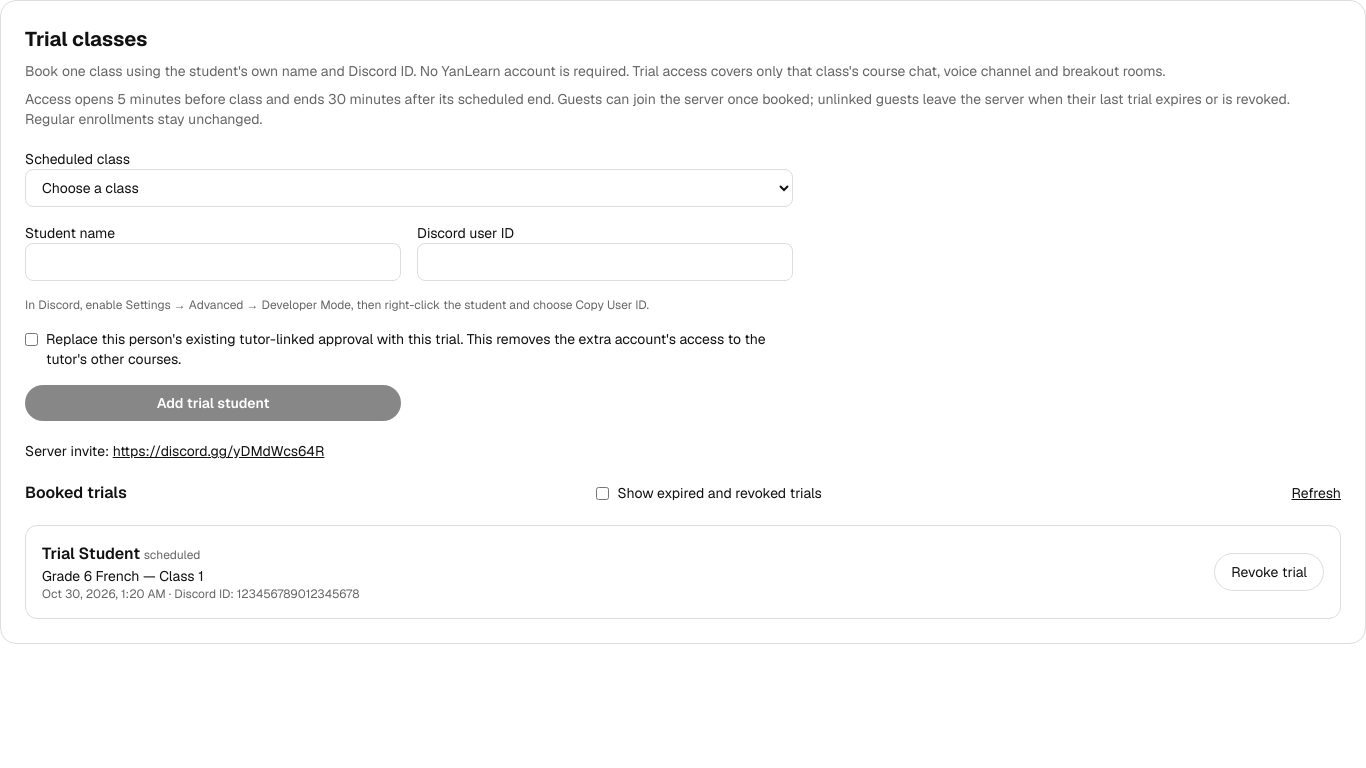
Test: trial booking interface › revokes a booking by trial ID and lets staff inspect history
Expected: the text "Revoked Student" is not shown
Click the button "Revoke trial": (1269, 572) x1=1214 y1=553 x2=1324 y2=591
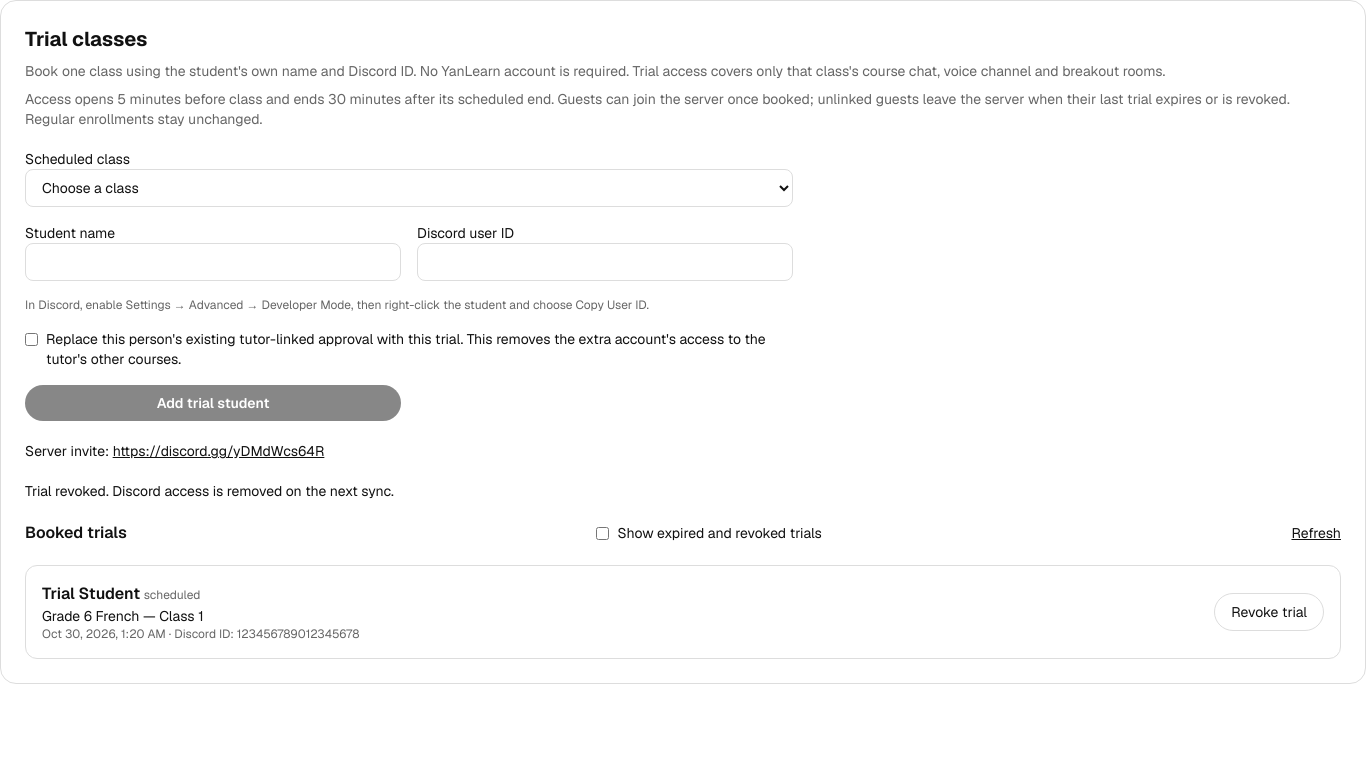
Click the checkbox labelled "Show expired and revoked trials": (603, 533) x1=596 y1=526 x2=609 y2=540
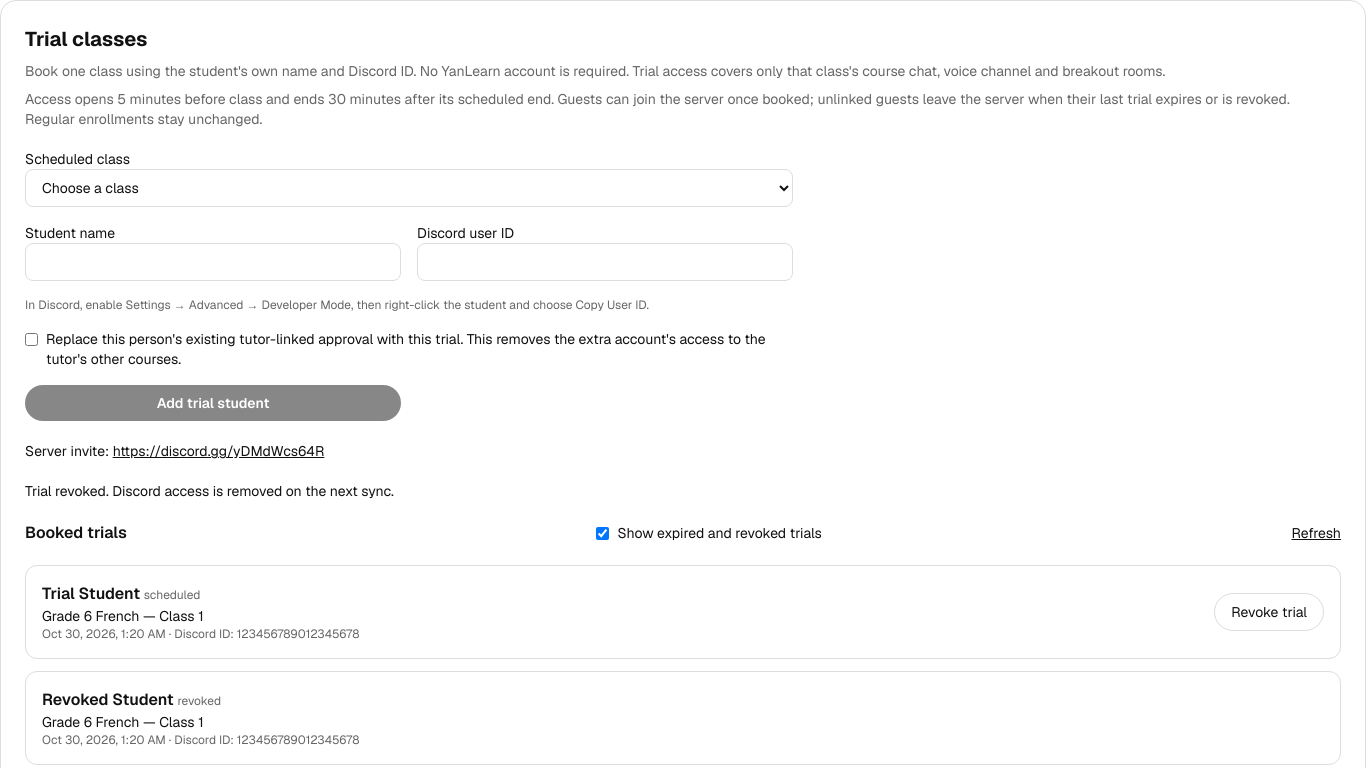
Result: the text "Revoked Student" is shown at x1=42 y1=689 x2=174 y2=710
